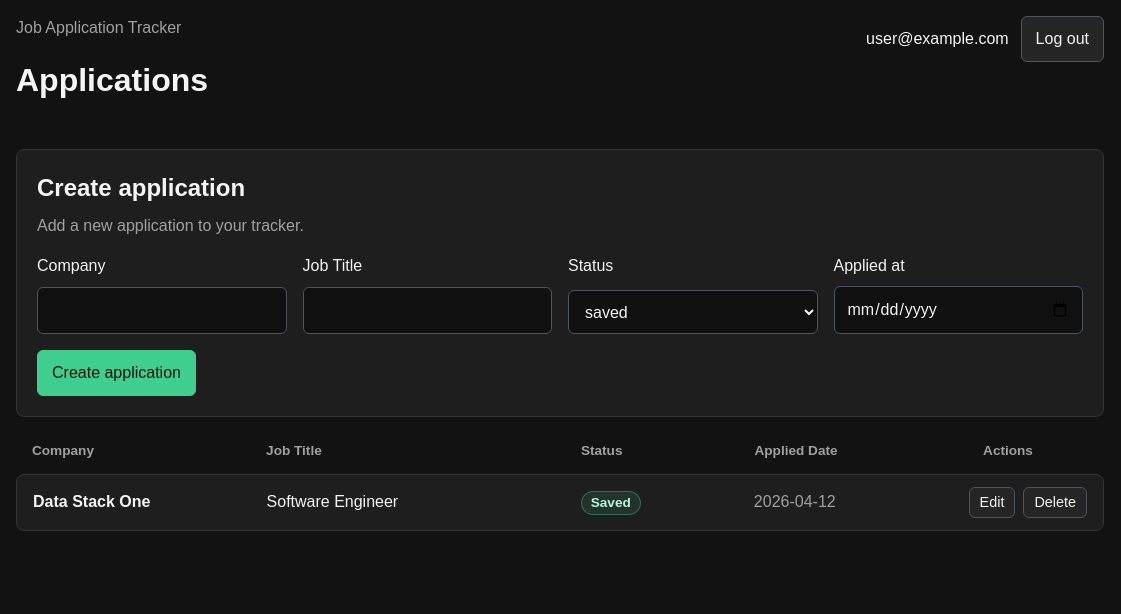
Test: ApplicationsPage update flow › clears a stale delete error after a successful list refresh
Click the button "Delete" at x=1055, y=502, box [1023,487,1087,518]
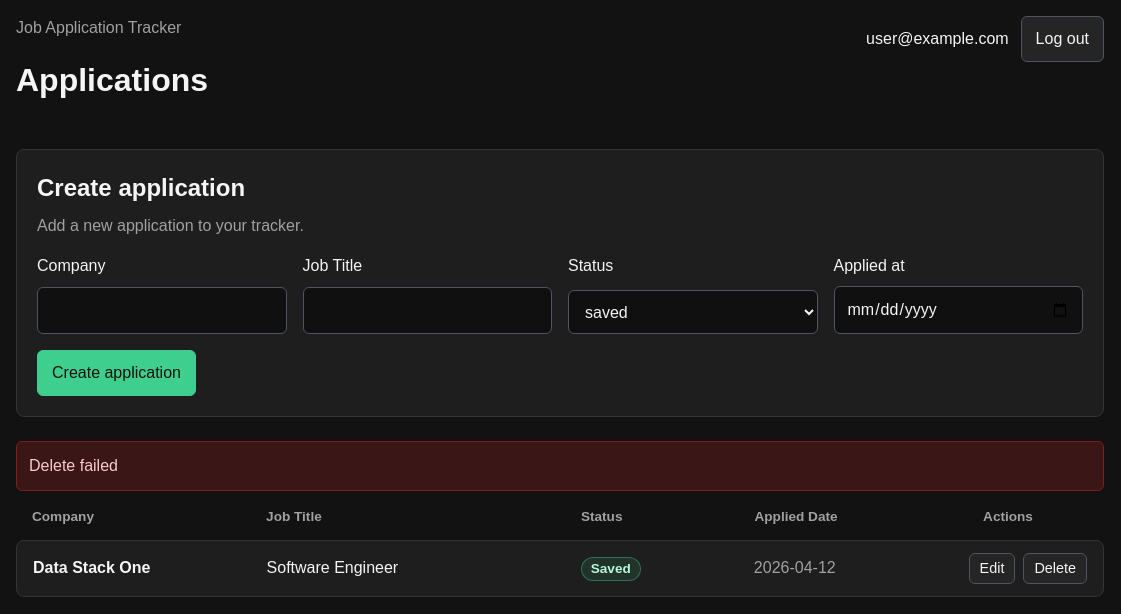
Now the message reads "Delete failed", box [29,457,118,474]
Type "Acme Labs" into the field labelled "Company" at x=162, y=311, box [37,287,286,334]
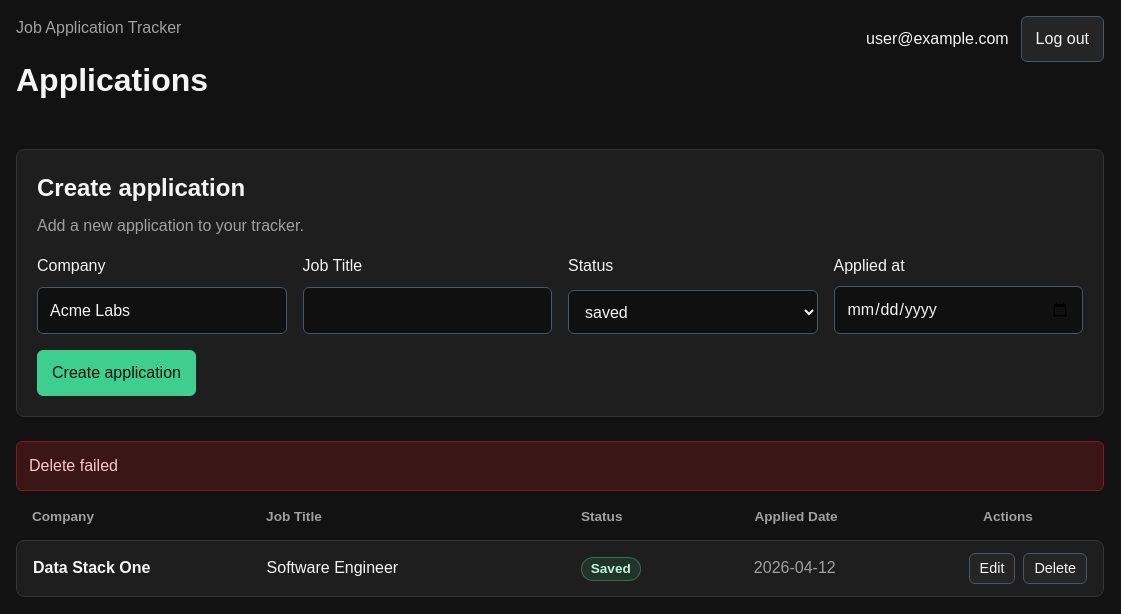
Type "Frontend Engineer" into the field labelled "Job Title" at x=427, y=311, box [302,287,552,334]
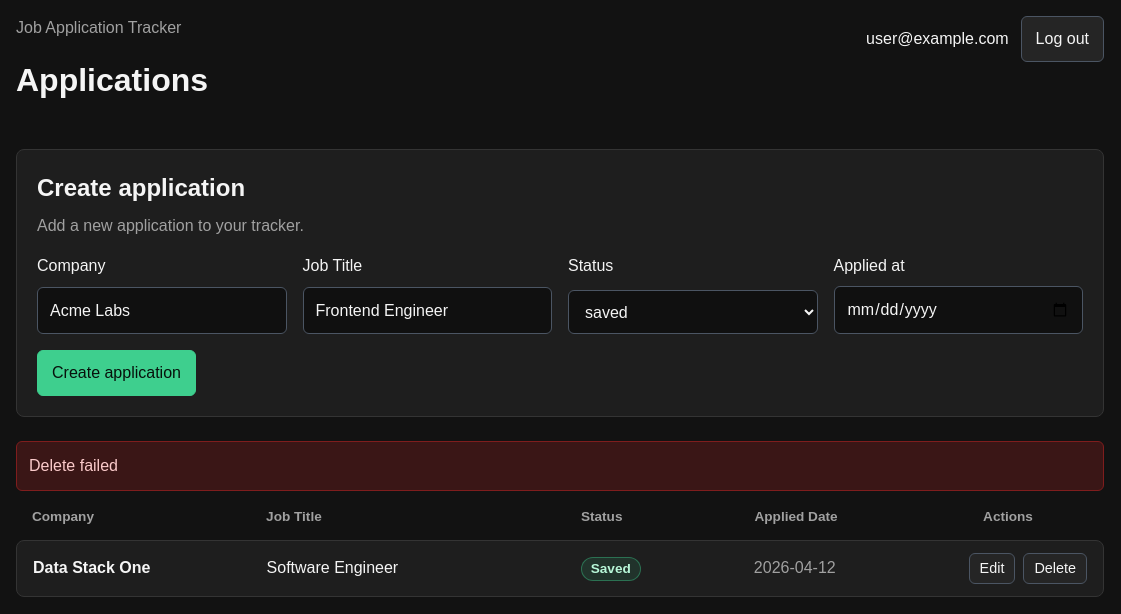
Click the button "Create application" at x=116, y=373, box [37,350,196,396]
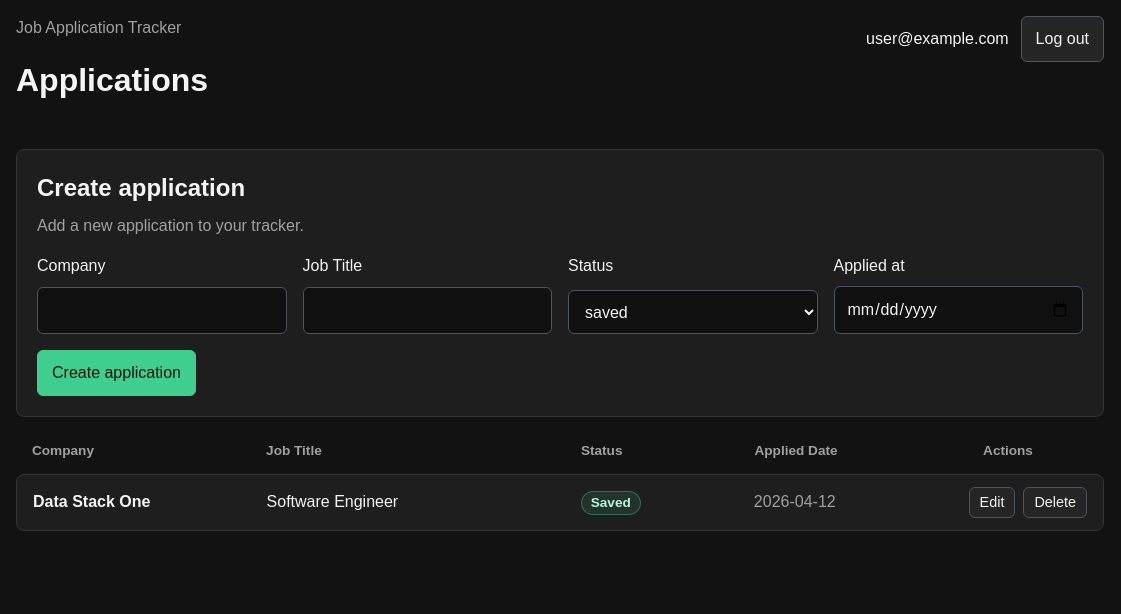
Now the message "Delete failed" is gone
